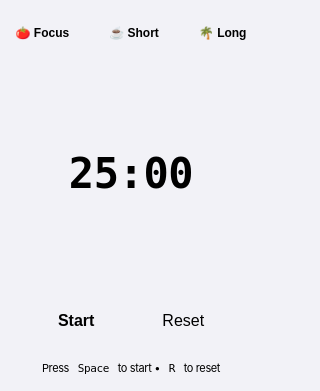
Test: PomodoroTimer › switches modes when clicked
Click the tab "☕ Short" at x=134, y=33, box 93,16 -> 175,50
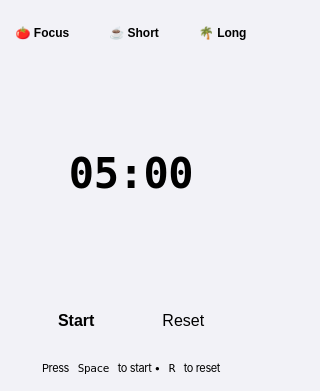
Result: the text "05:00" is shown at 69,143 -> 193,205
